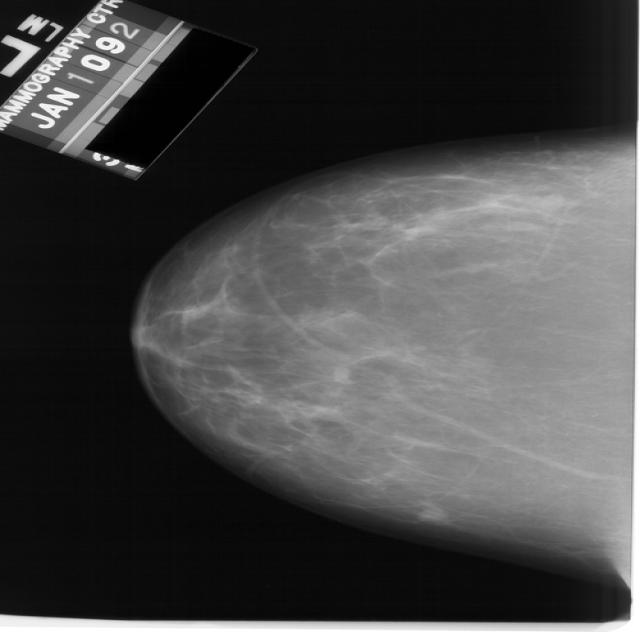tumour: (416, 506, 448, 522)
